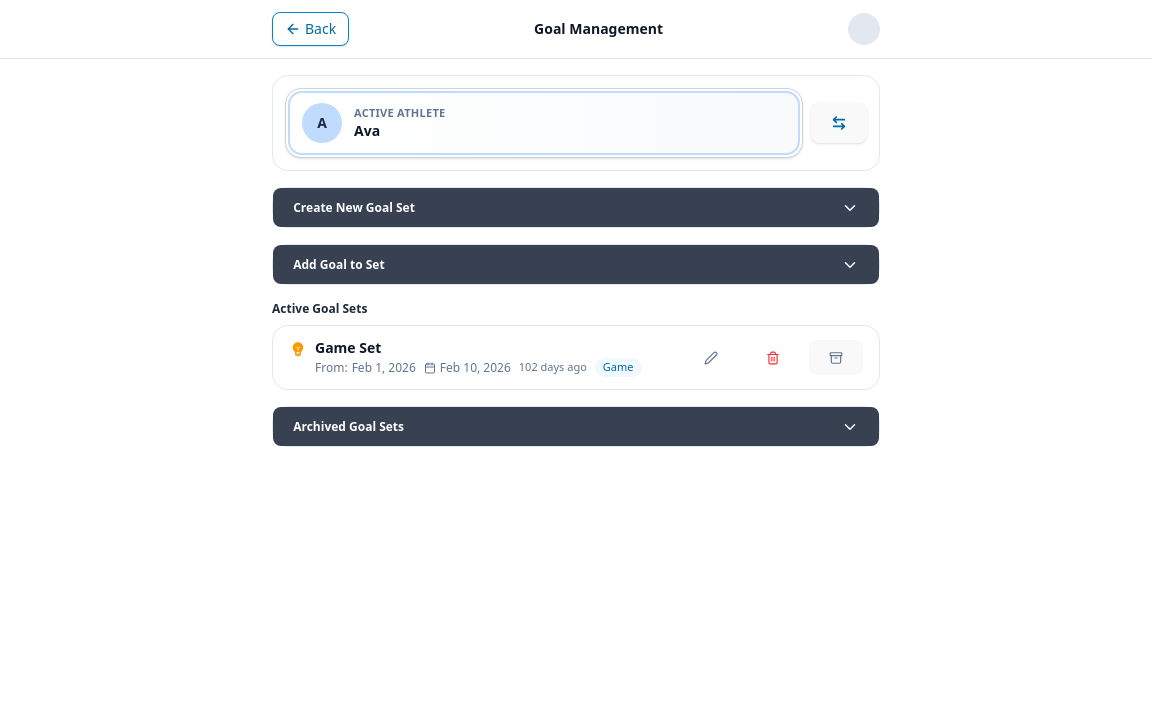
Test: GoalsManager Progress (Game vs Practice) › should compute and render progress for a game goal
The image size is (1152, 720).
Expected: the text "Game Set" is shown, [315,338,381,357]
What coordinates should you click on to do the following:
click the button "Game Set"
I would click on:
 (576, 358)
Its box is [273,326,879,389].
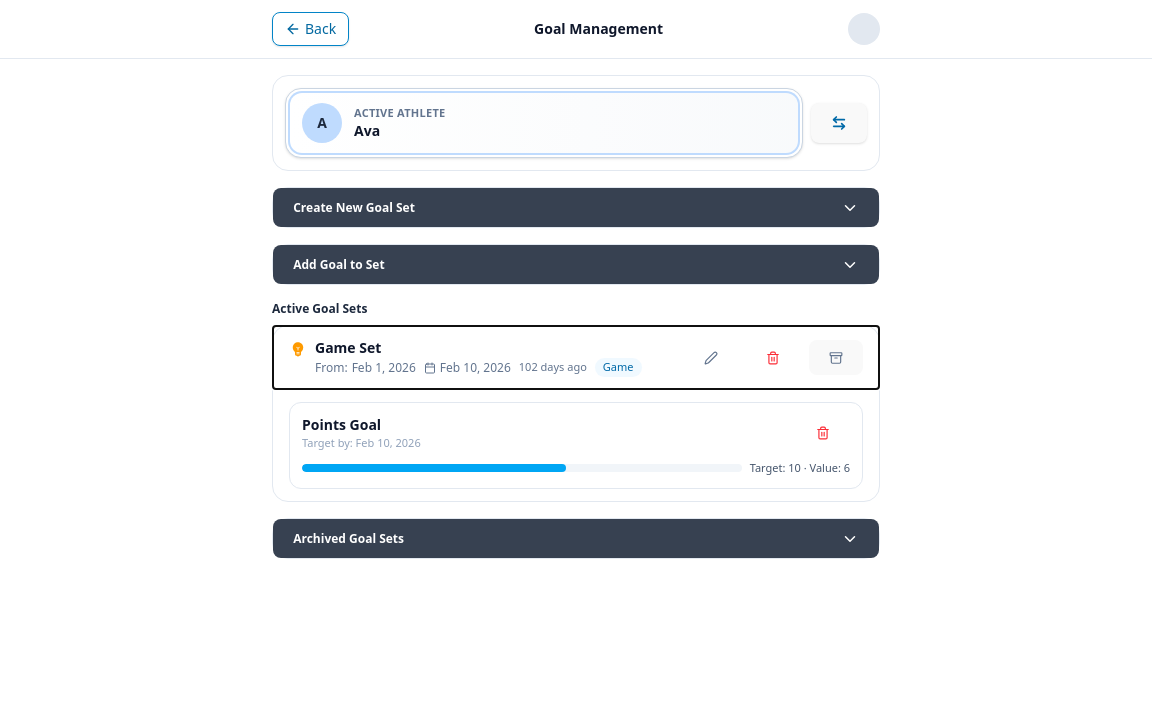
Now the text "Target: 10 · Value: 6" is shown, box [750,460,850,476]
